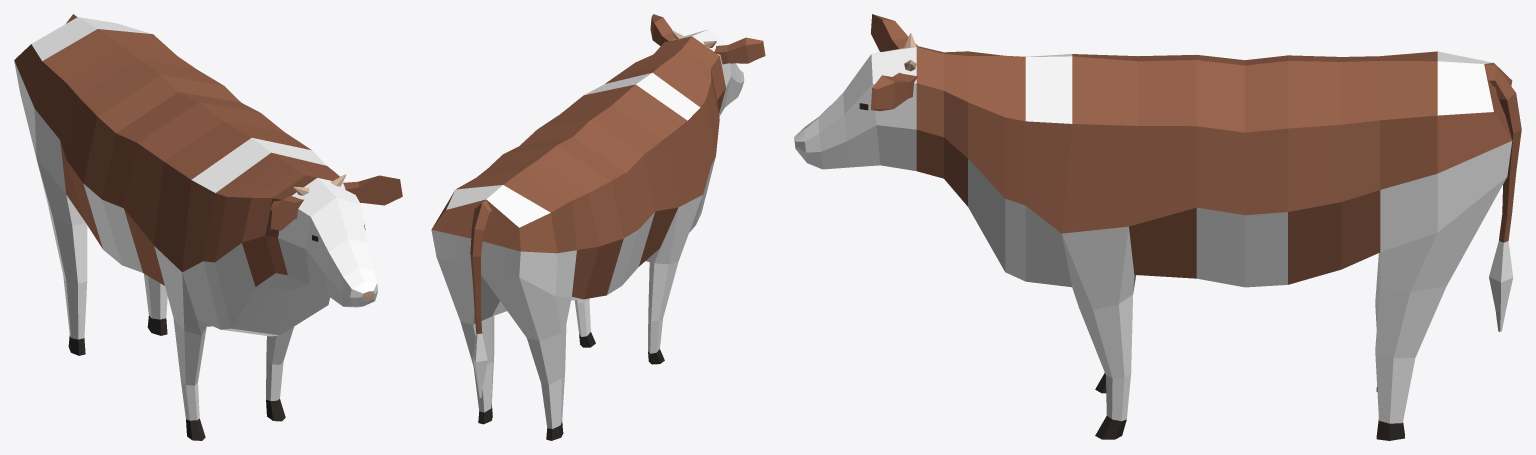
The model's file is Mesh_Cattle.obj.
The picture shows the model from 3 angles, left to right: view 1: azimuth 30°, elevation 25°; view 2: azimuth 150°, elevation 25°; view 3: azimuth 270°, elevation 25°; orthographic projection. The views are drawn at different scales.
Visible parts, largest first — view 1: Geo_Cattle; view 2: Geo_Cattle; view 3: Geo_Cattle.
Boxes of the visible parts, x1,y1,x2,y2 form: Geo_Cattle: (14,14,402,440); Geo_Cattle: (431,14,765,440); Geo_Cattle: (794,14,1521,440).
Bounding box in the file's own units: 91.85 × 176 × 316.
Materials: 1 (1 with a texture image).
